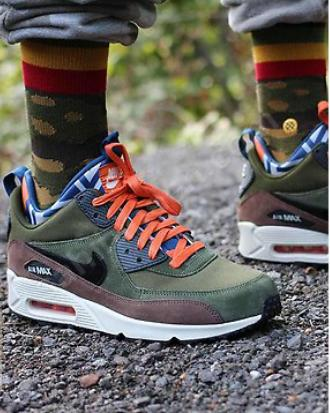nike: (29, 241, 110, 287)
